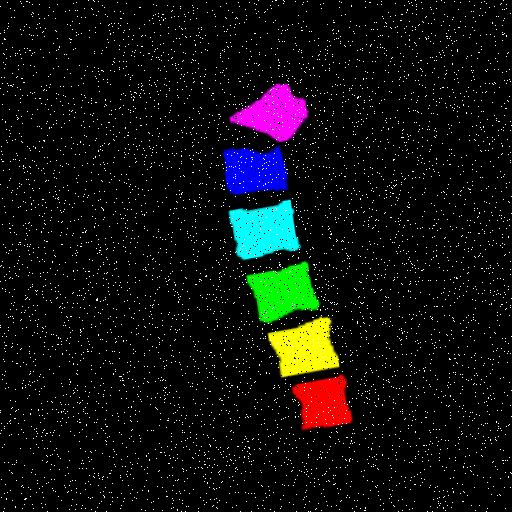L1: (295, 375, 350, 428)
L2: (269, 317, 340, 376)
L3: (248, 262, 317, 321)
L4: (229, 199, 298, 259)
L5: (223, 146, 285, 191)
S1: (229, 82, 307, 140)
